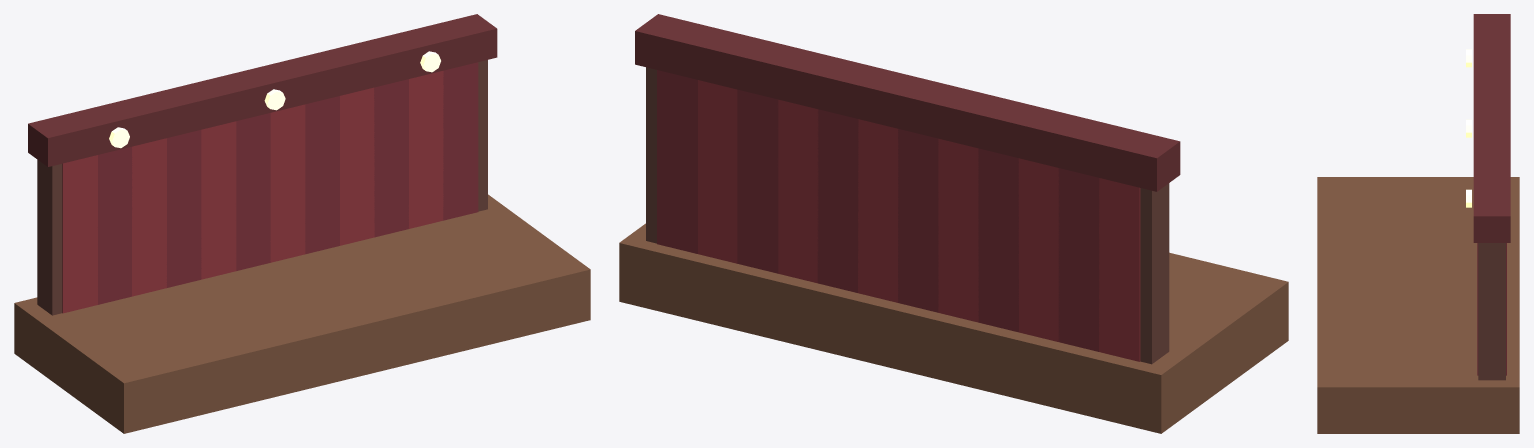
The model's file is PZ_Stage.glb.
The picture shows the model from 3 angles, left to right: view 1: azimuth 30°, elevation 25°; view 2: azimuth 150°, elevation 25°; view 3: azimuth 270°, elevation 25°; orthographic projection. The views are drawn at different scales.
Visible parts, largest first — view 1: PZ_Stage; view 2: PZ_Stage; view 3: PZ_Stage.
Boxes of the visible parts, box(x1,y1,x2,y2) form: PZ_Stage: box(14, 14, 590, 433); PZ_Stage: box(619, 14, 1288, 433); PZ_Stage: box(1317, 14, 1519, 433).
Bounding box in the file's own units: 27 × 12.8 × 11.
Materials: 2 (2 with a texture image).
